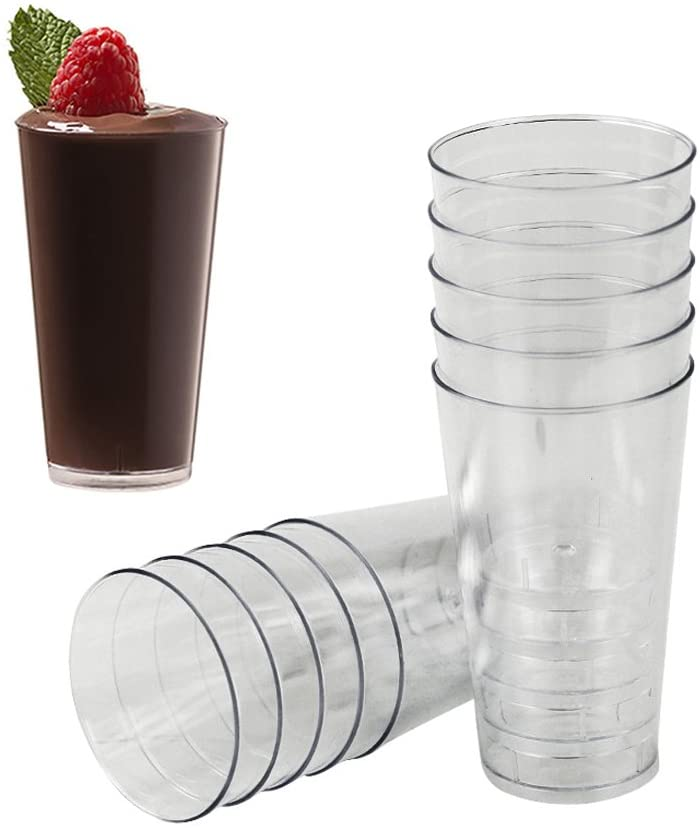plastic_glass: (6, 96, 251, 496)
